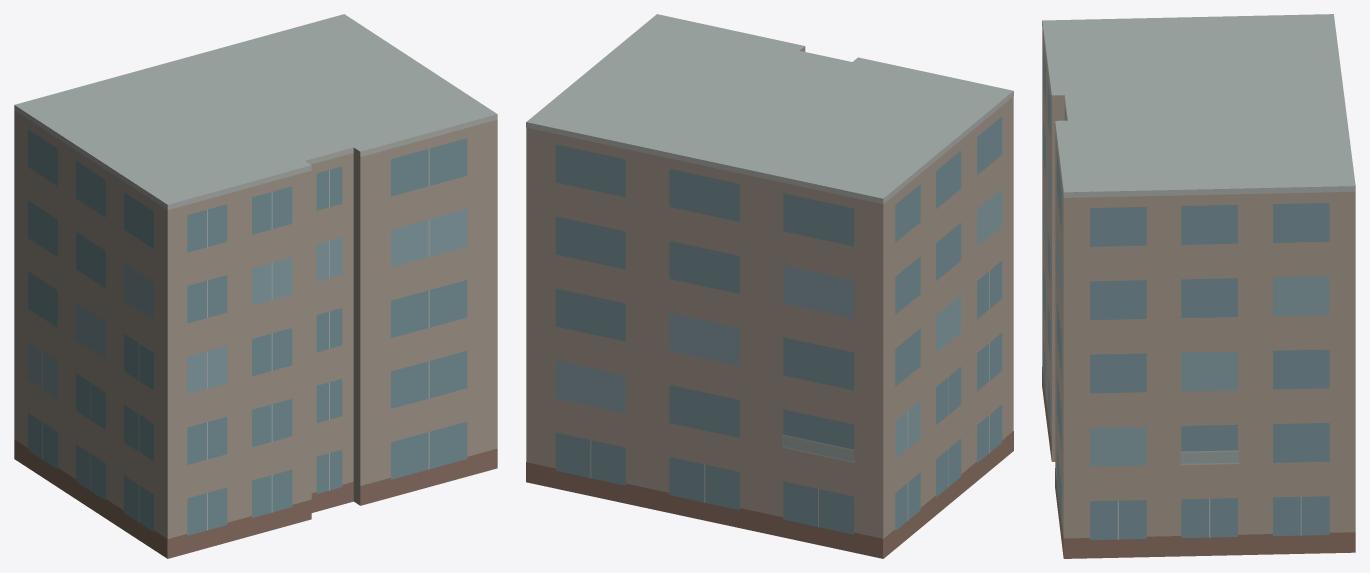
File: survey-upis-33033825.glb
3 views of the same model, side by side, from view 1: azimuth 30°, elevation 25°; view 2: azimuth 150°, elevation 25°; view 3: azimuth 270°, elevation 25° (orthographic). The views are drawn at different scales.
Parts seen in each view (by area): view 1: survey-upis-33033825.tmp; view 2: survey-upis-33033825.tmp; view 3: survey-upis-33033825.tmp.
Boxes of the visible parts, <box> form: survey-upis-33033825.tmp: <box>14,14,497,558</box>; survey-upis-33033825.tmp: <box>526,14,1013,558</box>; survey-upis-33033825.tmp: <box>1042,14,1355,558</box>.
Size of the model in its own units: 16.7 by 16 by 12.41.
